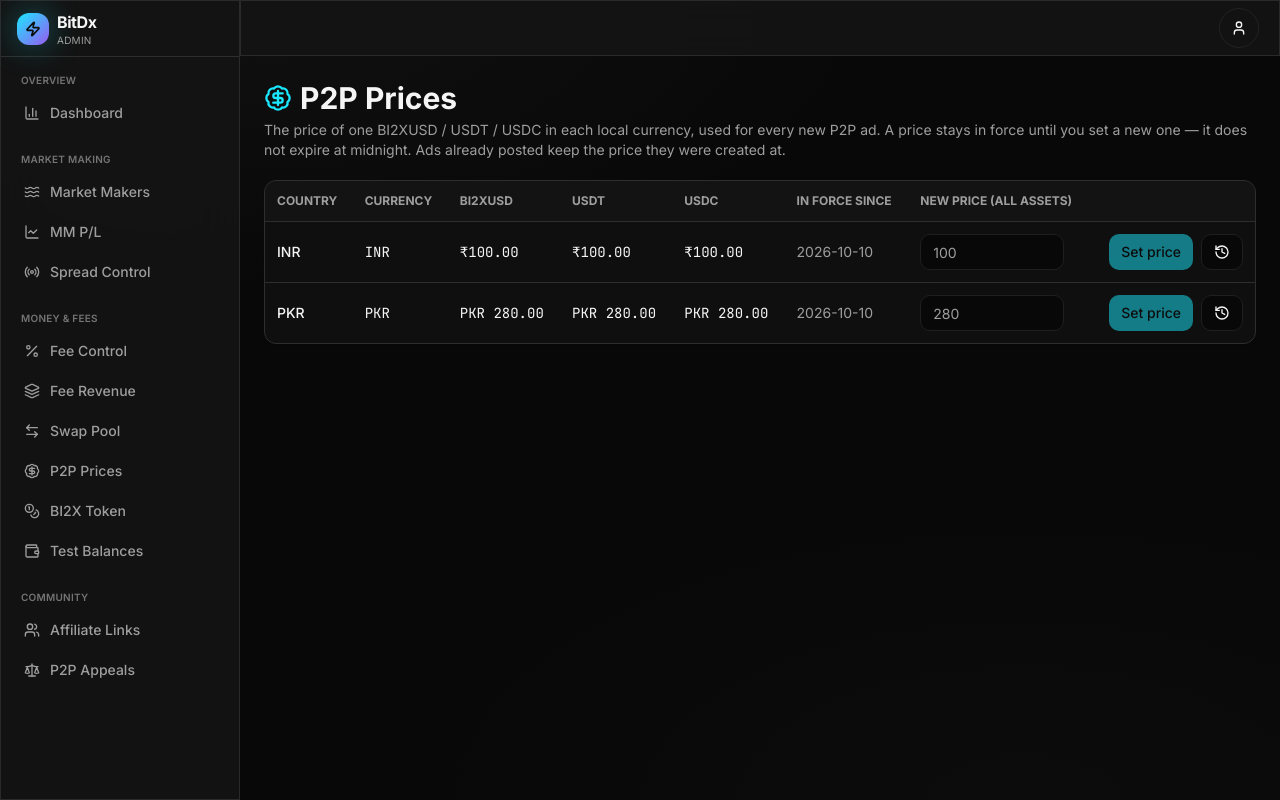
Scenario: AdminP2PPrices › sets a new price for all assets of a currency
The width and height of the screenshot is (1280, 800).
Type "285.5" into the field named "New PKR price" at (992, 313), box [920,295,1064,331]
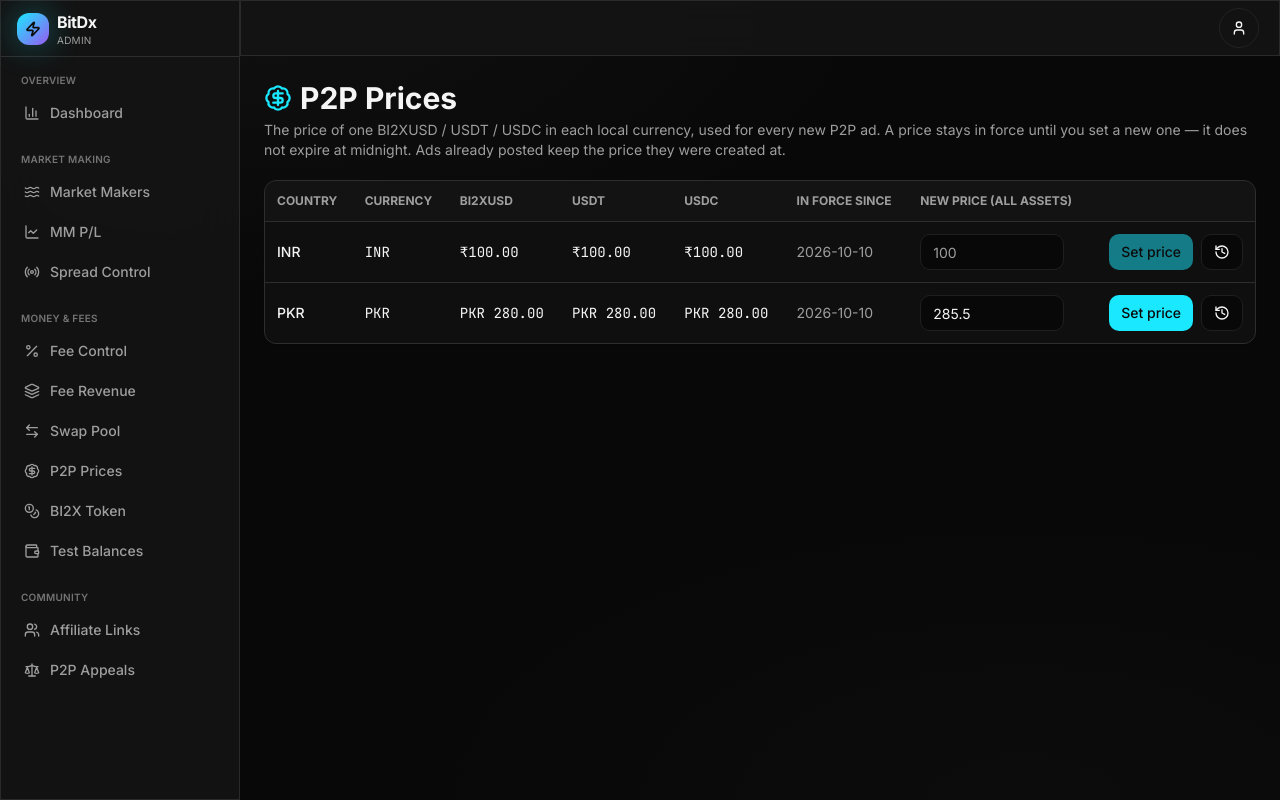
Click the 2nd button "Set price" at (1151, 313), box [1109,295,1193,331]
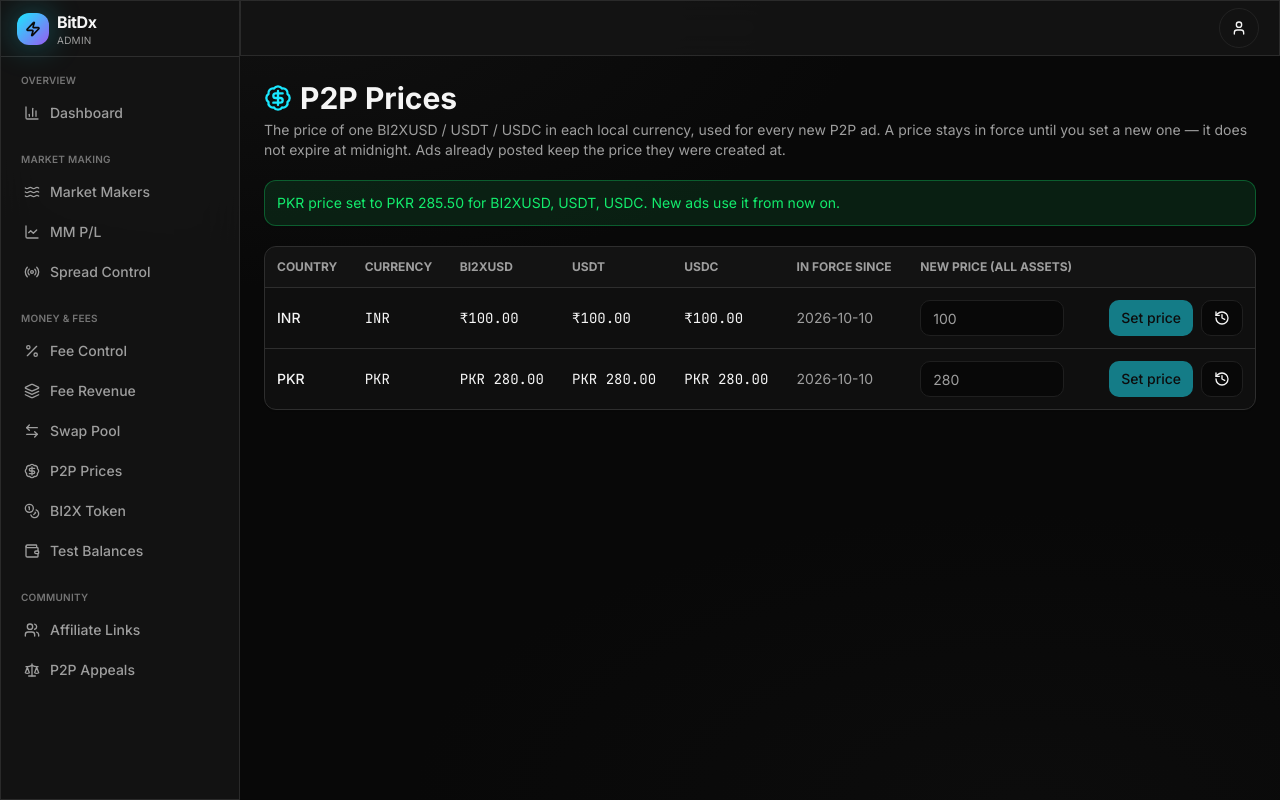
Now the text "PKR price set to" is shown, box [277,194,840,211]
